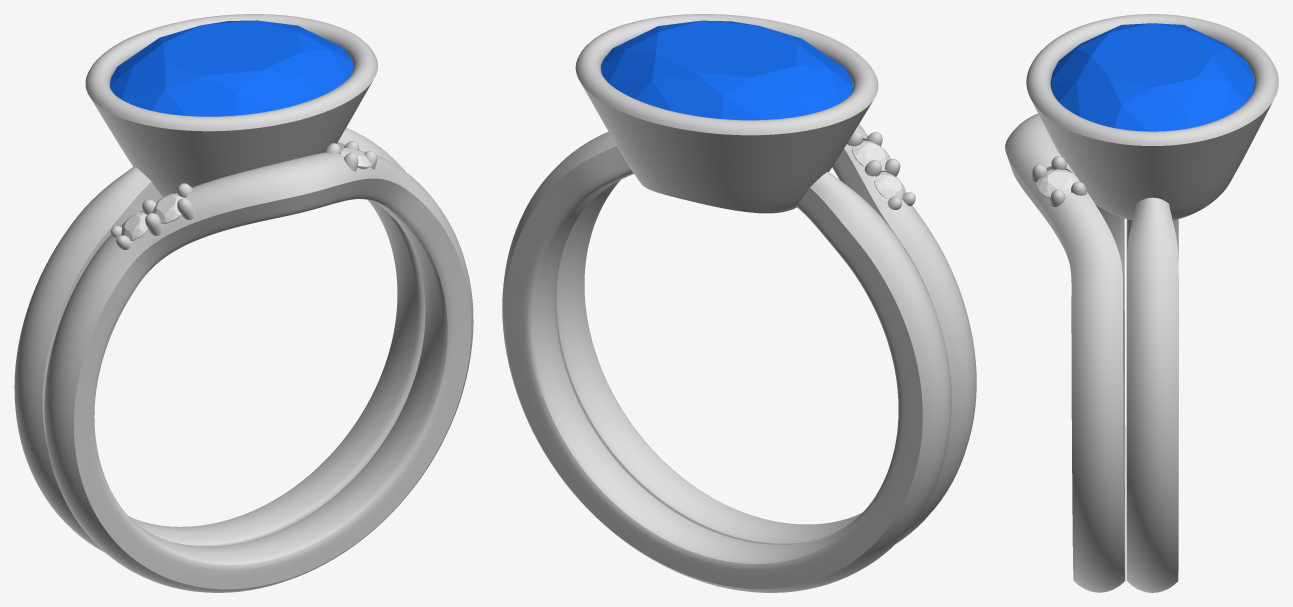
The model's file is KatrinaFlatPTwn_blender.glb.
3 renders of one model, left to right at view 1: azimuth 30°, elevation 25°; view 2: azimuth 150°, elevation 25°; view 3: azimuth 270°, elevation 25°, orthographic. The views are drawn at different scales.
Visible parts, largest first — view 1: V2 Katrina PT for 3d model, V2 Katrina sapph for 3d model, V2 Katrina dia for 3d model; view 2: V2 Katrina PT for 3d model, V2 Katrina sapph for 3d model, V2 Katrina dia for 3d model, V2 Katrina dia for 3d model.001; view 3: V2 Katrina PT for 3d model, V2 Katrina sapph for 3d model, V2 Katrina dia for 3d model.002.
Part boxes in pixels (x1=…): V2 Katrina PT for 3d model: x1=14, y1=14, x2=473, y2=592; V2 Katrina sapph for 3d model: x1=110, y1=20, x2=353, y2=116; V2 Katrina dia for 3d model: x1=152, y1=193, x2=186, y2=223; V2 Katrina PT for 3d model: x1=502, y1=14, x2=976, y2=592; V2 Katrina sapph for 3d model: x1=601, y1=20, x2=853, y2=120; V2 Katrina dia for 3d model: x1=852, y1=140, x2=890, y2=170; V2 Katrina dia for 3d model.001: x1=874, y1=172, x2=905, y2=200; V2 Katrina PT for 3d model: x1=1005, y1=14, x2=1278, y2=592; V2 Katrina sapph for 3d model: x1=1050, y1=23, x2=1254, y2=131; V2 Katrina dia for 3d model.002: x1=1037, y1=169, x2=1078, y2=198.
Bounding box in the file's own units: 20.81 × 24.13 × 11.63.
